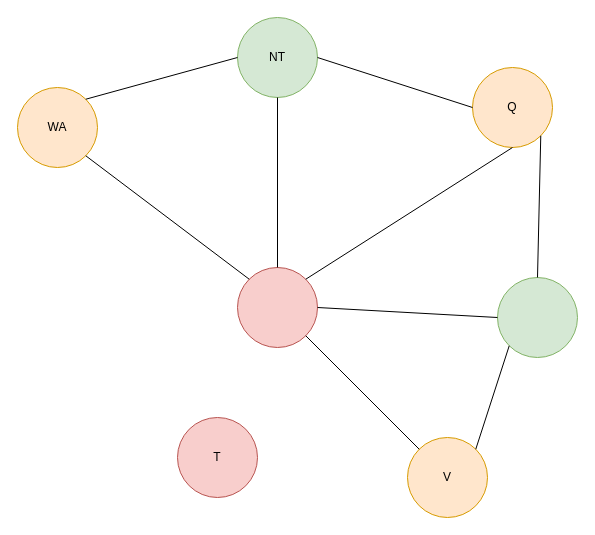
This 595x535 diagram has some shape labels left out. Here are the shapes that lost their labels. From the top down, the centre of each, then its label:
At pixel 277 307: "SA".
At pixel 537 317: "NSW".
